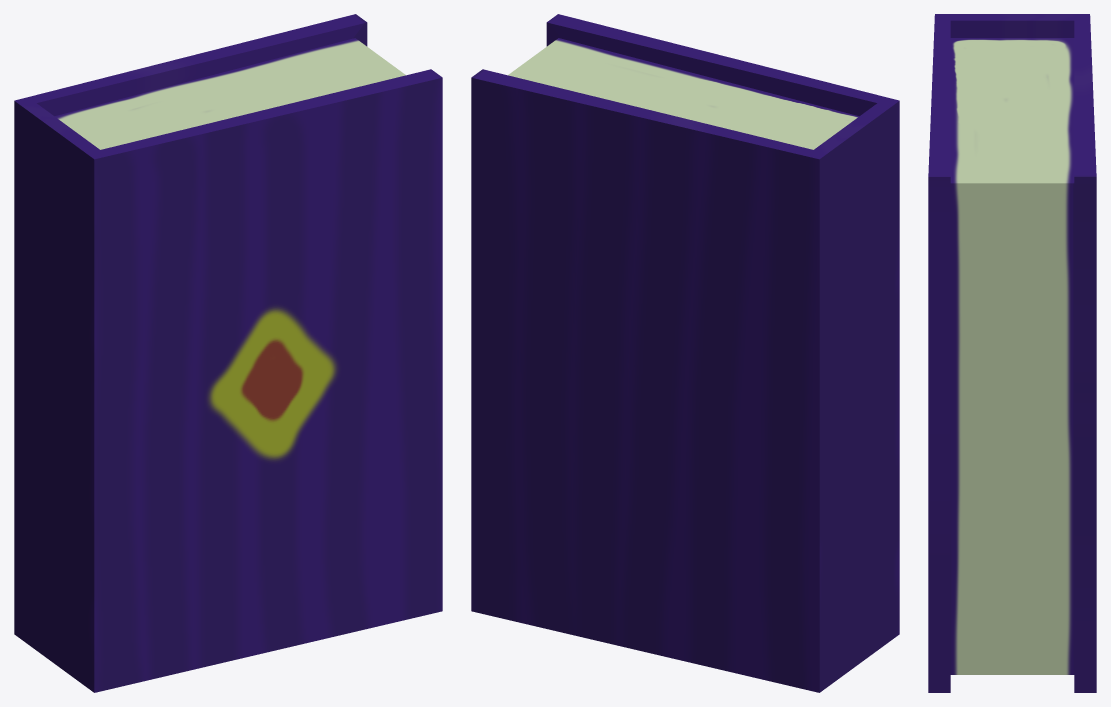
The model's file is grimorio.fbx.
The picture shows the model from 3 angles, left to right: view 1: azimuth 30°, elevation 25°; view 2: azimuth 150°, elevation 25°; view 3: azimuth 270°, elevation 25°; orthographic projection. The views are drawn at different scales.
Parts seen in each view (by area): view 1: Grimorio; view 2: Grimorio; view 3: Grimorio.
Boxes of the visible parts, x1,y1,x2,y2 form: Grimorio: [14, 14, 442, 692]; Grimorio: [471, 14, 899, 692]; Grimorio: [928, 14, 1096, 692].
Size of the model in its own units: 79.85 by 118 by 34.87.
Materials: 1 (1 with a texture image).
